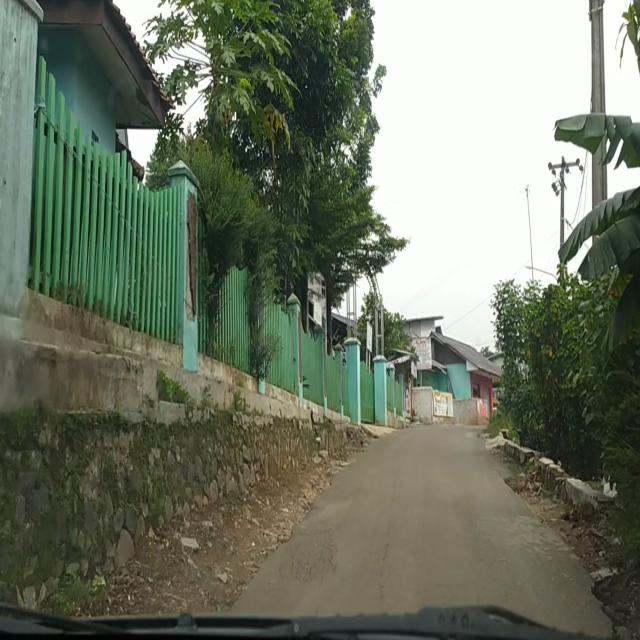Drain Hole: (278, 519, 350, 582)
